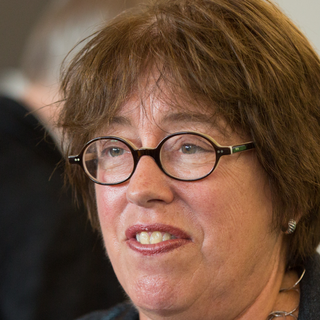eye: (168, 135, 210, 160), (100, 143, 130, 161)
